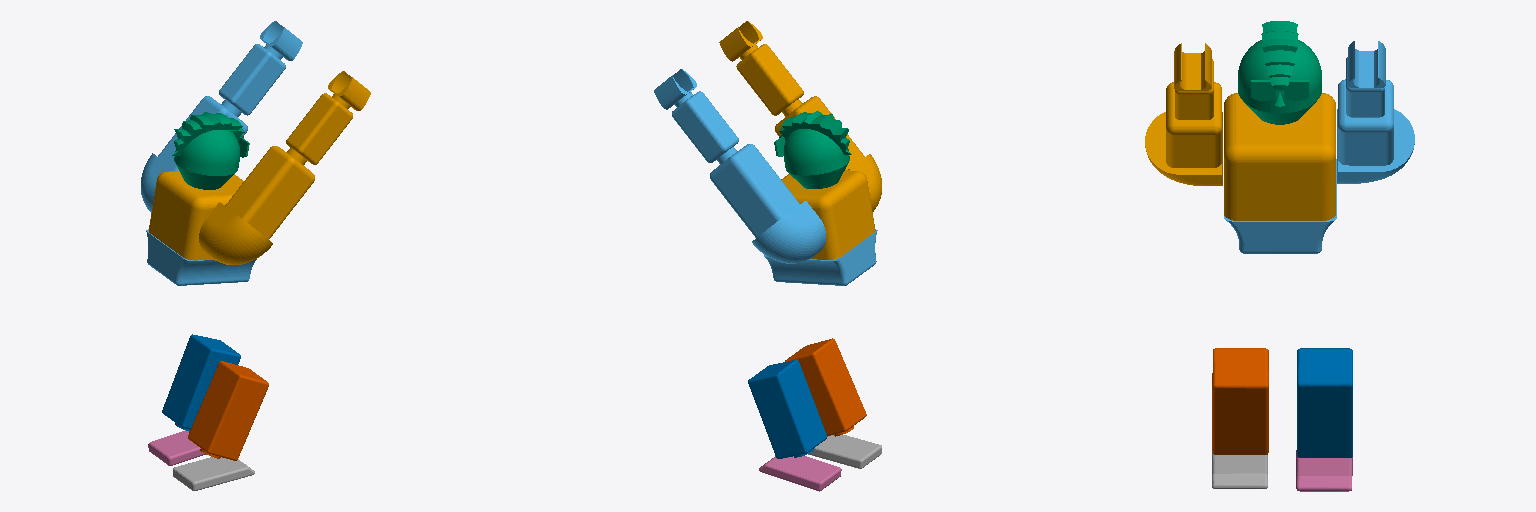
URDF robot description (myrobot):
<?xml version="1.0"?>
<robot name="myrobot">

   <link name="base_link">
    <visual>
      <origin rpy="0.1745 0 1.5708" xyz="0 -0.2 1.17"/>
      <geometry>
        <mesh filename="package://project_ars/meshes/BodySae1.dae"/>
      </geometry>
    </visual>
     <collision>
      <geometry>
        <mesh filename="package://project_ars/meshes/BodySae1.dae"/>
      </geometry>
      <origin rpy="0.1745 0 1.5708" xyz="0 -0.2 1.17"/>
    </collision>
    <inertial>
      <mass value="10"/>
      <inertia ixx="1e-3" ixy="0.0" ixz="0.0" iyy="1e-3" iyz="0.0" izz="1e-3"/>
    </inertial>
  </link>
  
  <link name="pelvis">
    <visual>
      <origin rpy="0.1745 0 1.5708" xyz="-0.03 -0.2 0.1"/>
      <geometry>
        <mesh filename="package://project_ars/meshes/PelvisSet.dae"/>
      </geometry>
    </visual>
     <collision>
      <geometry>
        <mesh filename="package://project_ars/meshes/PelvisSet.dae"/>
      </geometry>
      <origin rpy="0.1745 0 1.5708" xyz="-0.03 -0.2 0.1"/>
    </collision>
    <inertial>
      <mass value="5"/>
      <inertia ixx="1e-3" ixy="0.0" ixz="0.0" iyy="1e-3" iyz="0.0" izz="1e-3"/>
    </inertial>
  </link>
  
  <joint name="base_link_to_pelvis" type="fixed">
    <axis xyz="0 0 0.2"/>
    <dynamics damping="0.1" friction="0.0"/>
    <limit effort="0" lower="-0.01" upper="0.01" velocity="0.5"/>
    <parent link="base_link"/>
    <child link="pelvis"/>
    <origin rpy="0 0 0" xyz="0 0 0.92"/>
  </joint>
  
<link name="left_leg">
    <visual>
      <origin rpy="1.5708 0 1.5708" xyz="-0.1 -0.09 -0.44"/>
      <geometry>
        <mesh filename="package://project_ars/meshes/Leg1.dae"/>
      </geometry>
    </visual>
    <collision>
      <geometry>
        <mesh filename="package://project_ars/meshes/Leg1.dae"/>
      </geometry>
      <origin rpy="1.5708 0 1.5708" xyz="-0.1 -0.09 -0.44"/>
    </collision>
    <inertial>
      <mass value="10"/>
      <inertia ixx="1" ixy="0.0" ixz="0.0" iyy="1" iyz="0.0" izz="1"/>
    </inertial>
  </link>
  
  <joint name="pelvis_to_left_leg" type="revolute">
    <axis xyz="0 -0.5 0"/>
    <dynamics damping="0.1" friction="0.0"/>
    <limit effort="3000.0" lower="0.500" upper="0.600" velocity="1"/>
    <parent link="pelvis"/>
    <child link="left_leg"/>
    <origin rpy="0 0 0" xyz="0.1 0.15 0"/>
  </joint>
  
  <link name="right_leg">
    <visual>
      <origin rpy="1.5708 0 1.5708" xyz="-0.1 -0.09 -0.44"/>
      <geometry>
        <mesh filename="package://project_ars/meshes/Leg1.dae"/>
      </geometry>
    </visual>
    <collision>
      <geometry>
        <mesh filename="package://project_ars/meshes/Leg1.dae"/>
      </geometry>
      <origin rpy="1.5708 0 1.5708" xyz="-0.1 -0.09 -0.44"/>
    </collision>
    <inertial>
      <mass value="10"/>
      <inertia ixx="1" ixy="0.0" ixz="0.0" iyy="1" iyz="0.0" izz="1"/>
    </inertial>
  </link>
  
  <joint name="pelvis_to_right_leg" type="revolute">
    <axis xyz="0 -0.5 0"/>
    <dynamics damping="0.1" friction="0.0"/>
    <limit effort="-3000.0" lower="0.400" upper="0.600" velocity="1"/>
    <parent link="pelvis"/>
    <child link="right_leg"/>
    <origin rpy="0 0 0" xyz="0.1 -0.15 0"/>
  </joint>
  
  <link name="left_leg2">
    <visual>
      <origin rpy="1.5708 0 1.5708" xyz="-0.1 -0.09 -0.4"/>
      <geometry>
        <mesh filename="package://project_ars/meshes/Leg2.dae"/>
      </geometry>
    </visual>
    <collision>
      <geometry>
        <mesh filename="package://project_ars/meshes/Leg2.dae"/>
      </geometry>
      <origin rpy="1.5708 0 1.5708" xyz="-0.1 -0.09 -0.4"/>
    </collision>
    <inertial>
      <mass value="5"/>
      <inertia ixx="1e-3" ixy="0.0" ixz="0.0" iyy="1e-3" iyz="0.0" izz="1e-3"/>
    </inertial>
  </link>
  
  <joint name="left_leg_to_left_leg2" type="fixed">
    <axis xyz="0 -0.5 0"/>
    <dynamics damping="0.1" friction="0.0"/>
    <limit effort="3000" lower="-0.990" upper="-0.790" velocity="0.5"/>
    <parent link="left_leg"/>
    <child link="left_leg2"/>
    <origin rpy="0 0.96 0" xyz="0 0 -0.5"/>
  </joint>
  
  <link name="right_leg2">
    <visual>
      <origin rpy="1.5708 0 1.5708" xyz="-0.1 -0.09 -0.4"/>
      <geometry>
        <mesh filename="package://project_ars/meshes/Leg2.dae"/>
      </geometry>
    </visual>
    <collision>
      <geometry>
        <mesh filename="package://project_ars/meshes/Leg2.dae"/>
      </geometry>
      <origin rpy="1.5708 0 1.5708" xyz="-0.1 -0.09 -0.4"/>
    </collision>
    <inertial>
      <mass value="5"/>
      <inertia ixx="1e-3" ixy="0.0" ixz="0.0" iyy="1e-3" iyz="0.0" izz="1e-3"/>
    </inertial>
  </link>
  
  <joint name="right_leg_to_right_leg2" type="fixed">
    <axis xyz="0 -0.5 0"/>
    <dynamics damping="0.1" friction="0.0"/>
    <limit effort="3000" lower="-0.990" upper="-0.790" velocity="0.5"/>
    <parent link="right_leg"/>
    <child link="right_leg2"/>
    <origin rpy="0 0.96 0" xyz="0 0 -0.5"/>
  </joint>  

  <link name="left_leg3">
    <visual>
      <origin rpy="-0.25 0 1.5708" xyz="0.2 -0.15 -0.05"/>
      <geometry>
        <mesh filename="package://project_ars/meshes/Leg3.dae"/>
      </geometry>
    </visual>
    <collision>
      <geometry>
        <mesh filename="package://project_ars/meshes/Leg3.dae"/>
      </geometry>
      <origin rpy="-0.25 0 1.5708" xyz="0.2 -0.15 -0.05"/>
    </collision>
    <inertial>
      <mass value="10"/>
      <inertia ixx="1e-3" ixy="0.0" ixz="0.0" iyy="1e-3" iyz="0.0" izz="1e-3"/>
    </inertial>
  </link>
  
  <joint name="left_leg2_to_left_leg3" type="revolute">
    <axis xyz="0 -0.5 0"/>
    <dynamics damping="0.1" friction="0.0"/>
    <limit effort="-1000.0" lower="0.210" upper="0.280" velocity="0.5"/>
    <parent link="left_leg2"/>
    <child link="left_leg3"/>
    <origin rpy="0 0 0" xyz="0 0 -0.42"/>
  </joint>
  
  <link name="right_leg3">
    <visual>
      <origin rpy="-0.25 0 1.5708" xyz="0.2 -0.15 -0.05"/>
      <geometry>
        <mesh filename="package://project_ars/meshes/Leg3.dae"/>
      </geometry>
    </visual>
    <collision>
      <geometry>
        <mesh filename="package://project_ars/meshes/Leg3.dae"/>
      </geometry>
      <origin rpy="-0.25 0 1.5708" xyz="0.2 -0.15 -0.05"/>
    </collision>
    <inertial>
      <mass value="10"/>
      <inertia ixx="1e-3" ixy="0.0" ixz="0.0" iyy="1e-3" iyz="0.0" izz="1e-3"/>
    </inertial>
  </link>
  
  <joint name="right_leg2_to_right_leg3" type="revolute">
    <axis xyz="0 -0.5 0"/>
    <dynamics damping="0.1" friction="0.0"/>
    <limit effort="-1000.0" lower="0.210" upper="0.280" velocity="0.5"/>
    <parent link="right_leg2"/>
    <child link="right_leg3"/>
    <origin rpy="0 0 0" xyz="0 0 -0.42"/>
  </joint>  
  
  <link name="right_hand">
    <visual>
      <origin rpy="0 0 1.5708" xyz="-0.13 -0.33 -0.9"/>
      <geometry>
        <mesh filename="package://project_ars/meshes/HandSat.dae"/>
      </geometry>
    </visual>
    <collision>
      <geometry>
        <mesh filename="package://project_ars/meshes/HandSat.dae"/>
      </geometry>
      <origin rpy="0 0 1.5708" xyz="-0.13 -0.33 -0.9"/>
    </collision>
    <inertial>
      <mass value="8"/>
      <inertia ixx="1e-3" ixy="0.0" ixz="0.0" iyy="1e-3" iyz="0.0" izz="1e-3"/>
    </inertial>
  </link>
  
  <joint name="base_link_to_right_hand" type="fixed">
    <axis xyz="0 -0.5 0"/>
    <dynamics damping="0.1" friction="0.0"/>
    <limit effort="1.0" lower="0" upper="0.9" velocity="0.5"/>
    <parent link="base_link"/>
    <child link="right_hand"/>
    <origin rpy="0 -2.356 0" xyz="0.2 -0.15 1.3"/>
  </joint>
  
  <link name="left_hand">
    <visual>
      <origin rpy="0 0 1.5708" xyz="-0.13 -0.33 -0.9"/>
      <geometry>
        <mesh filename="package://project_ars/meshes/HandSat.dae"/>
      </geometry>
    </visual>
    <collision>
      <geometry>
        <mesh filename="package://project_ars/meshes/HandSat.dae"/>
      </geometry>
      <origin rpy="0 0 1.5708" xyz="-0.13 -0.33 -0.9"/>
    </collision>
    <inertial>
      <mass value="8"/>
      <inertia ixx="1e-3" ixy="0.0" ixz="0.0" iyy="1e-3" iyz="0.0" izz="1e-3"/>
    </inertial>
  </link>
  
  <joint name="base_link_to_left_hand" type="revolute">
    <axis xyz="0 0.5 0"/>
    <dynamics damping="0.1" friction="0.0"/>
    <limit effort="10000" lower="0" upper="0.9" velocity="0.5"/>
    <parent link="base_link"/>
    <child link="left_hand"/>
    <origin rpy="0 2.356 3.1416" xyz="0.2 0.15 1.3"/>
  </joint>
  
  <link name="head">
    <visual>
      <origin rpy="0.1745 0 1.5708" xyz="-0.1 -0.15 0.15"/>
      <geometry>
        <mesh filename="package://project_ars/meshes/HeadSat.dae"/>
      </geometry>
    </visual>
    <collision>
      <geometry>
        <mesh filename="package://project_ars/meshes/HeadSat.dae"/>
      </geometry>
      <origin rpy="0.1745 0 1.5708" xyz="-0.1 -0.15 0.15"/>
    </collision>
    <inertial>
      <mass value="2"/>
      <inertia ixx="1e-3" ixy="0.0" ixz="0.0" iyy="1e-3" iyz="0.0" izz="1e-3"/>
    </inertial>
  </link>
  
  <joint name="base_link_to_head" type="revolute">
    <axis xyz="0 0 0.5"/>
    <limit effort="100.0" lower="-0.850" upper="0.850" velocity="0.5"/>
    <parent link="base_link"/>
    <child link="head"/>
    <origin rpy="0 0 0" xyz="0.1 0 1.32"/>
  </joint>
</robot>
 
 

--- Render facts (derived) ---
The picture shows the robot from 3 angles, left to right: view 1: azimuth 30°, elevation 25°; view 2: azimuth 150°, elevation 25°; view 3: azimuth 270°, elevation 25°; orthographic projection.
Model myrobot with 11 links and 10 joints (6 revolute, 4 fixed), rooted at base_link, posed all joints at 0 but 4 set to mid-range because 0 is outside their limits (pelvis_to_left_leg = 0.55, pelvis_to_right_leg = 0.5, left_leg2_to_left_leg3 = 0.245, right_leg2_to_right_leg3 = 0.245).
Links seen in each view (by area): view 1: right_hand, left_hand, right_leg2, base_link, head, left_leg2, pelvis, right_leg3, left_leg3; view 2: left_hand, right_hand, left_leg2, head, base_link, right_leg2, pelvis, left_leg3, right_leg3; view 3: base_link, right_hand, left_hand, head, left_leg2, right_leg2, pelvis, left_leg3, right_leg3.
Boxes of the visible links, bbox=[...] form: right_hand: bbox=[199, 71, 370, 264]; left_hand: bbox=[141, 21, 302, 212]; right_leg2: bbox=[188, 361, 268, 460]; base_link: bbox=[149, 171, 243, 260]; head: bbox=[172, 112, 249, 189]; left_leg2: bbox=[162, 334, 240, 431]; pelvis: bbox=[146, 229, 256, 285]; right_leg3: bbox=[173, 457, 254, 490]; left_leg3: bbox=[148, 430, 205, 465]; left_hand: bbox=[654, 69, 825, 263]; right_hand: bbox=[719, 21, 881, 211]; left_leg2: bbox=[748, 360, 826, 458]; head: bbox=[774, 111, 851, 188]; base_link: bbox=[781, 170, 875, 259]; right_leg2: bbox=[785, 338, 866, 436]; pelvis: bbox=[764, 229, 877, 285]; left_leg3: bbox=[759, 456, 841, 491]; right_leg3: bbox=[808, 435, 881, 468]; base_link: bbox=[1224, 93, 1335, 220]; right_hand: bbox=[1145, 43, 1222, 185]; left_hand: bbox=[1337, 41, 1414, 183]; head: bbox=[1238, 21, 1321, 124]; left_leg2: bbox=[1297, 348, 1352, 457]; right_leg2: bbox=[1212, 348, 1268, 454]; pelvis: bbox=[1224, 159, 1336, 253]; left_leg3: bbox=[1296, 450, 1352, 491]; right_leg3: bbox=[1212, 452, 1267, 488].
Size in the robot's own frame: 0.9139 by 0.96 by 1.99 metres.
9 mesh visuals loaded from 7 distinct referenced files (6 Collada DAE); not drawn: 2 (reference not matched to a file when rendering).